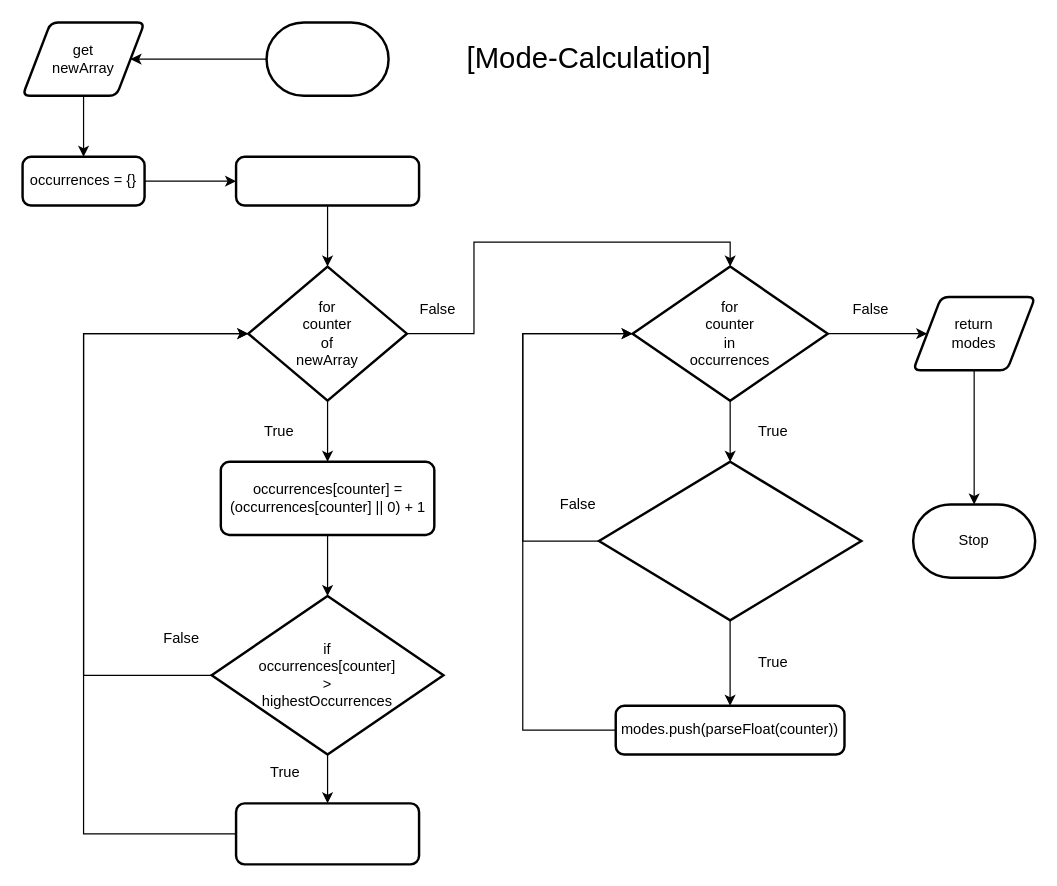
Image size: 1057x886. Some labels were removed from this diagram. Here are the shapes that lost their labels. From the top down, the centre of each, then its label:
At point 327,58: "Start".
At point 327,180: "highestOccurrences = 0".
At point 729,540: "if occurrences[counter] === highestOccurrences".
At point 327,833: "highestOccurrences = occurrences[counter]".
